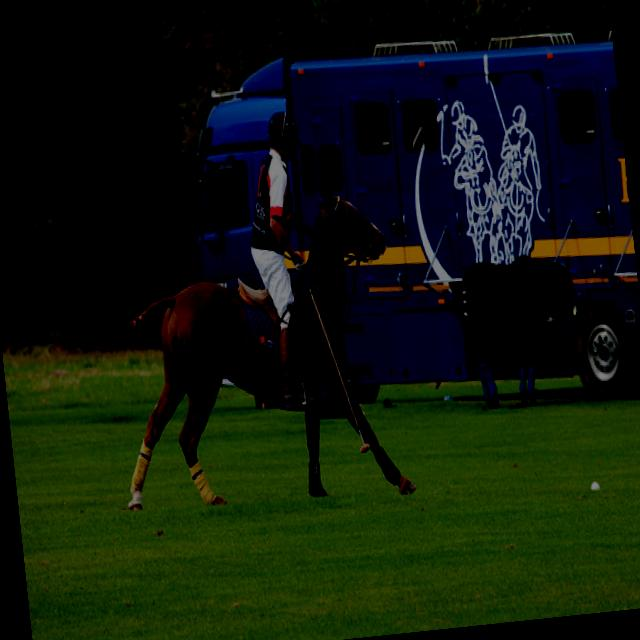Vehicle: (168, 21, 640, 456), (177, 17, 640, 444)
